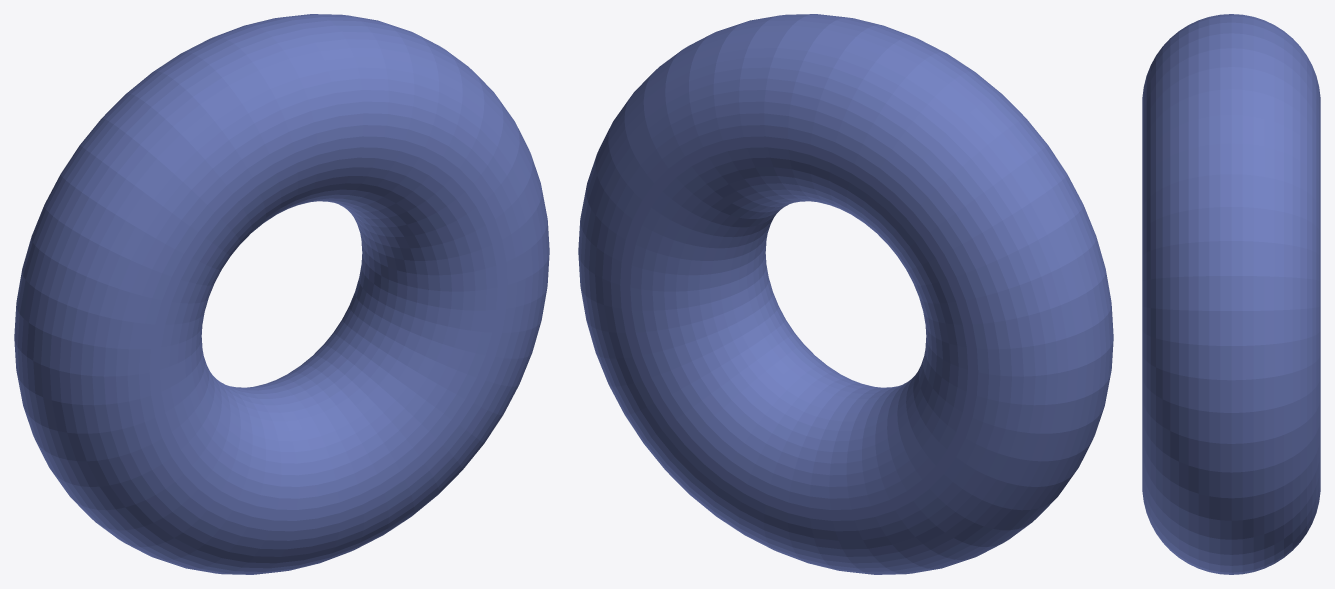
3 views of the same model, side by side, from view 1: azimuth 30°, elevation 25°; view 2: azimuth 150°, elevation 25°; view 3: azimuth 270°, elevation 25° (orthographic). The views are drawn at different scales.
Parts seen in each view (by area): view 1: world; view 2: world; view 3: world.
Boxes of the visible parts, x1,y1,x2,y2 form: world: (14, 14, 549, 574); world: (578, 14, 1113, 574); world: (1142, 14, 1320, 574).
Size of the model in its own units: 14.67 by 14.64 by 4.66.
